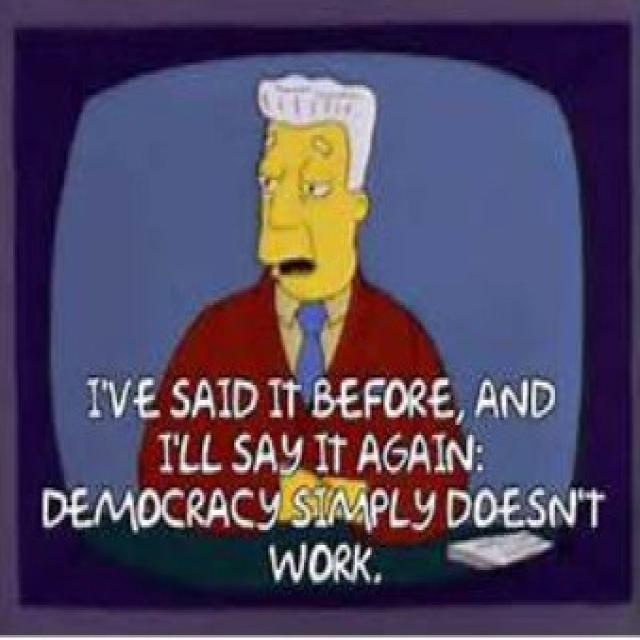Kent Brockman: (250, 64, 382, 306)
